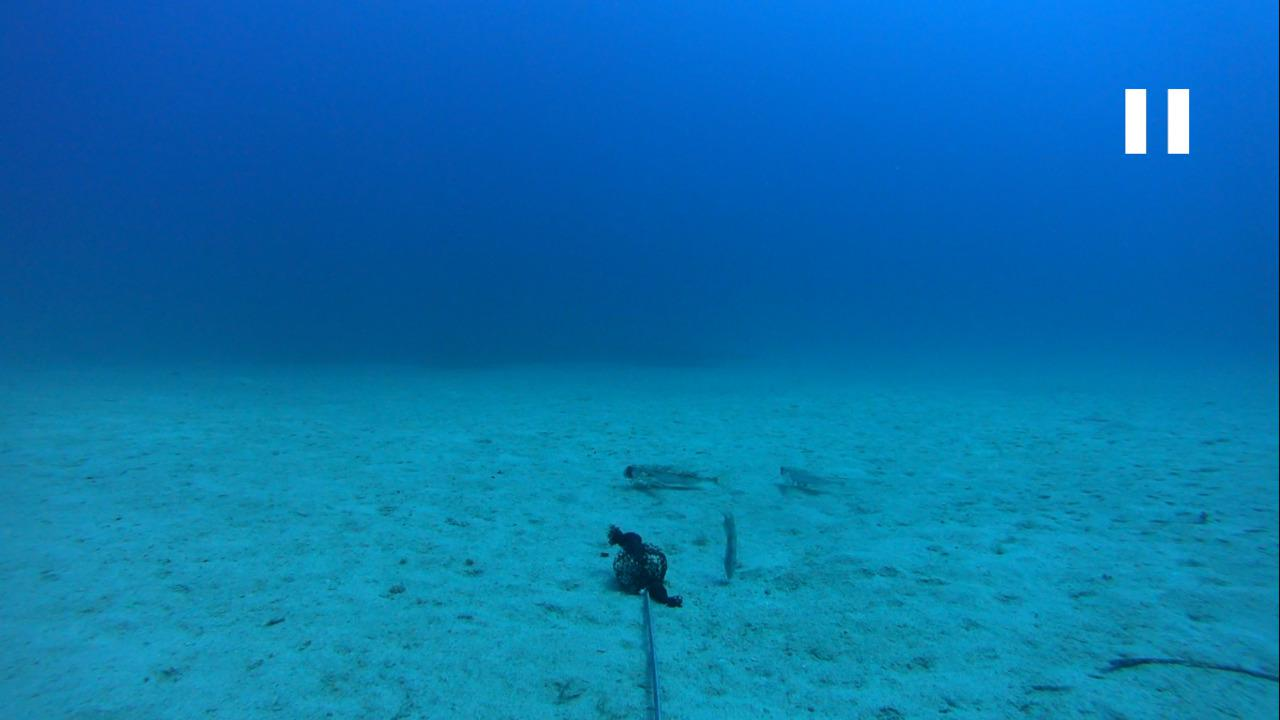dactylopterus: (606, 456, 733, 497), (758, 463, 865, 504)
raor: (704, 507, 750, 592)
